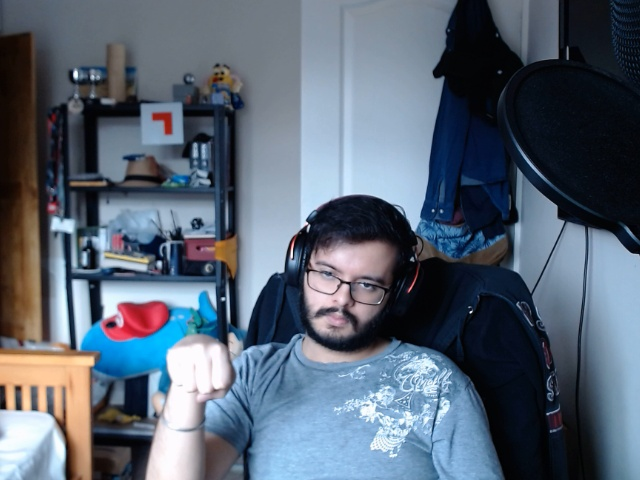Yes: (156, 321, 241, 399)
